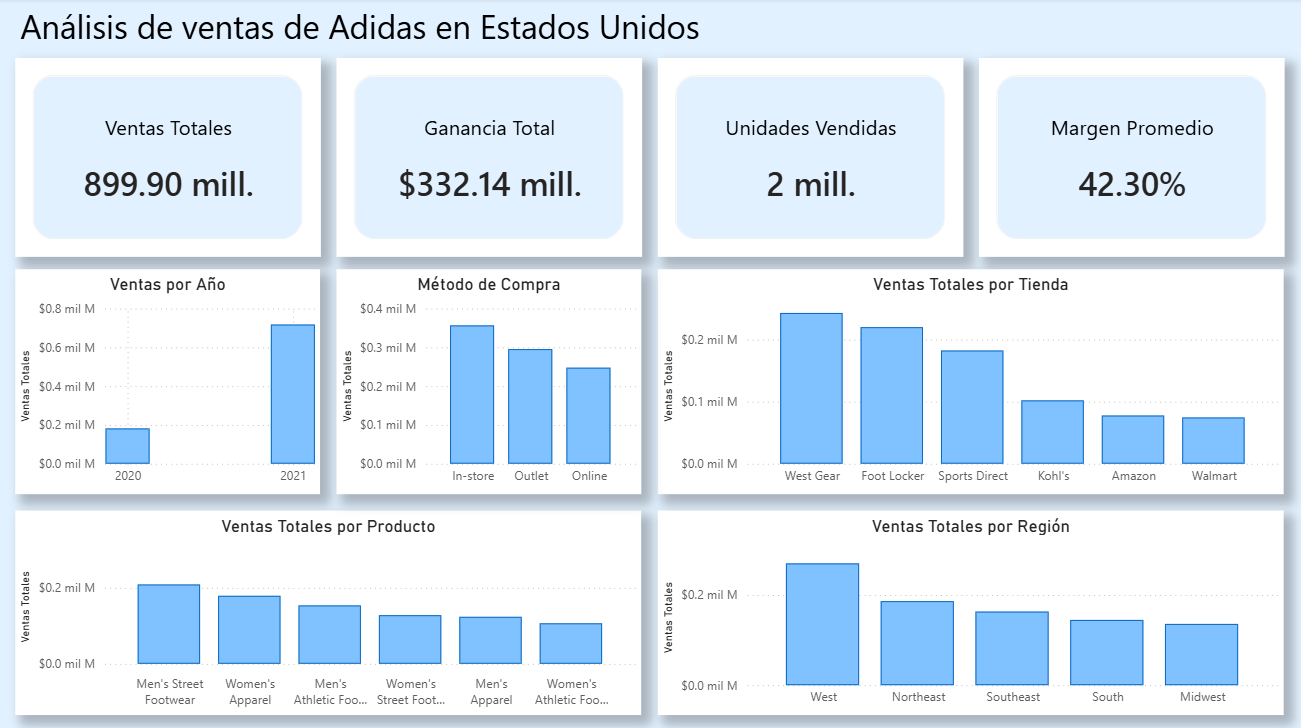

What the dashboard file says about the page in this screenshot:
{"tool":"powerbi","page":{"name":"Vista General de Ventas","canvas":[1280,720],"ordinal":0},"visuals":[{"type":"cardVisual","title":"VENTAS TOTALES","fields":{"Data":["FactSales.Ventas Totales"]},"box":[16.3,58.6,300,195.4],"z":0},{"type":"cardVisual","fields":{"Data":["FactSales.Ganancia Total"]},"box":[331,58.8,300,195.5],"z":1000},{"type":"cardVisual","fields":{"Data":["FactSales.Unidades Vendidas"]},"box":[646.2,58.8,300,195.5],"z":2000},{"type":"cardVisual","fields":{"Data":["FactSales.Margen Promedio"]},"box":[961.4,58.8,300,195.5],"z":3000},{"type":"columnChart","title":"Ventas por Año","fields":{"Category":["DimDate.Year"],"Y":["FactSales.Ventas Totales"]},"box":[15.7,266.7,299.4,220.5],"z":4000},{"type":"columnChart","title":"Ventas Totales por Tienda","fields":{"Y":["FactSales.Ventas Totales"],"Category":["DimRetailer.Retailer"]},"box":[646.4,266.7,614.7,220.5],"z":5000},{"type":"columnChart","title":"Ventas Totales por Producto","fields":{"Category":["DimProduct.Product"],"Y":["FactSales.Ventas Totales"]},"box":[15.7,503.2,614.7,201.1],"z":6000},{"type":"columnChart","title":"Ventas Totales por Región","fields":{"Category":["DimLocation.Region"],"Y":["FactSales.Ventas Totales"]},"box":[646.4,503.2,614.7,201.1],"z":7000},{"type":"columnChart","title":"Método de Compra","fields":{"Category":["FactSales.SalesMethod"],"Y":["FactSales.Ventas Totales"]},"box":[331,266.7,299.4,220.5],"z":8000},{"type":"textbox","box":[15.7,1.4,1245.7,57.1],"z":9000},{"type":"image","box":[239.3,4.9,52.8,49.1],"z":10000}]}

Visuals, with their boxes in screenshot pixels (x1, y1, x2, y2), scaled from the page's 1280x720 canvas onto the 1301x728 screenshot:
"VENTAS TOTALES" cardVisual: <box>17,59,321,257</box>
cardVisual - FactSales.Ganancia Total: <box>336,59,641,257</box>
cardVisual - FactSales.Unidades Vendidas: <box>657,59,962,257</box>
cardVisual - FactSales.Margen Promedio: <box>977,59,1282,257</box>
"Ventas por Año" columnChart: <box>16,270,320,493</box>
"Ventas Totales por Tienda" columnChart: <box>657,270,1282,493</box>
"Ventas Totales por Producto" columnChart: <box>16,509,641,712</box>
"Ventas Totales por Región" columnChart: <box>657,509,1282,712</box>
"Método de Compra" columnChart: <box>336,270,641,493</box>
textbox: <box>16,1,1282,59</box>
image: <box>243,5,297,55</box>
